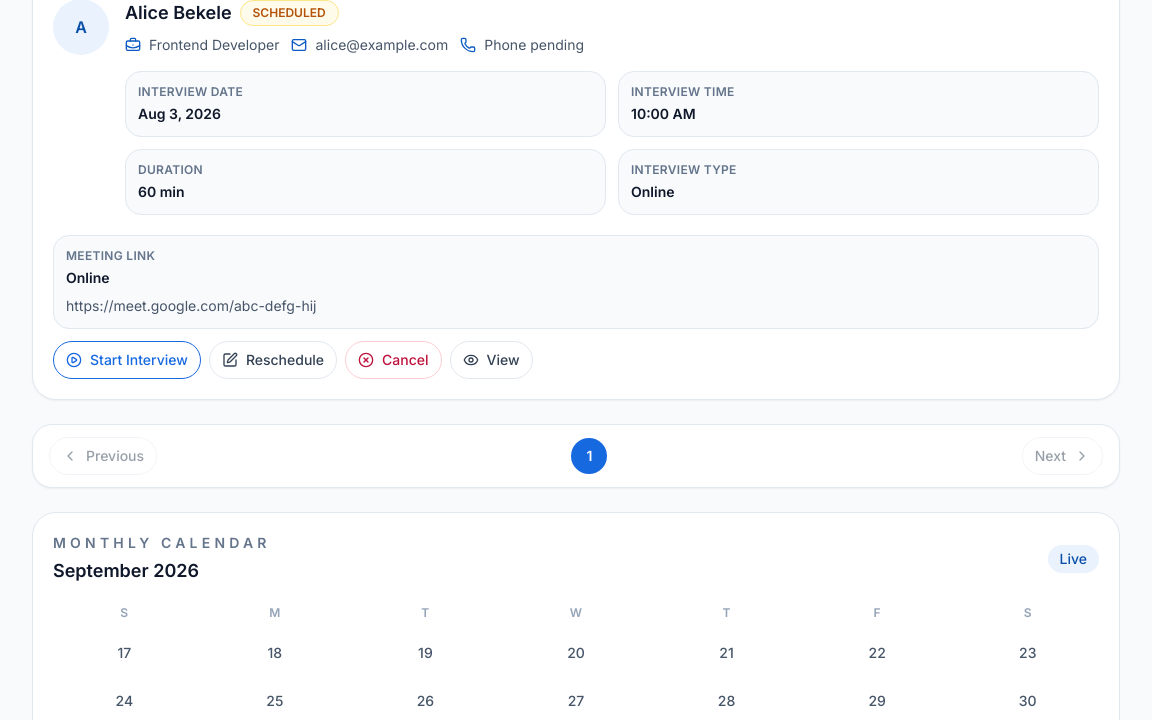
Test case: EmployerInterviews › launches the pre-interview workflow from a scheduled interview card
The width and height of the screenshot is (1152, 720).
(page scrolled)
Check: the text "Frontend Developer" is shown, box [125,35,280,55]
Click the button "Start Interview". click: (127, 360)
box: [53,341,201,379]
(page scrolled)
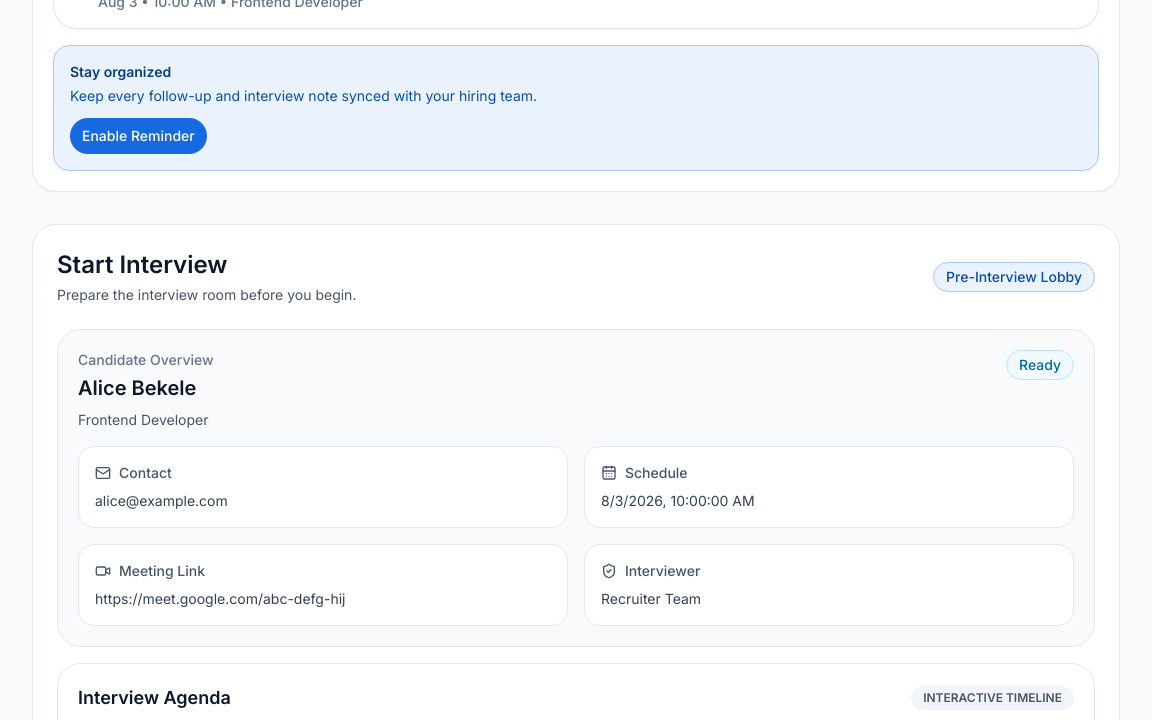
Check: the heading "Start Interview" is shown, box [57,250,228,279]
Check: the text "Candidate Overview" is shown, box [78,350,214,370]
